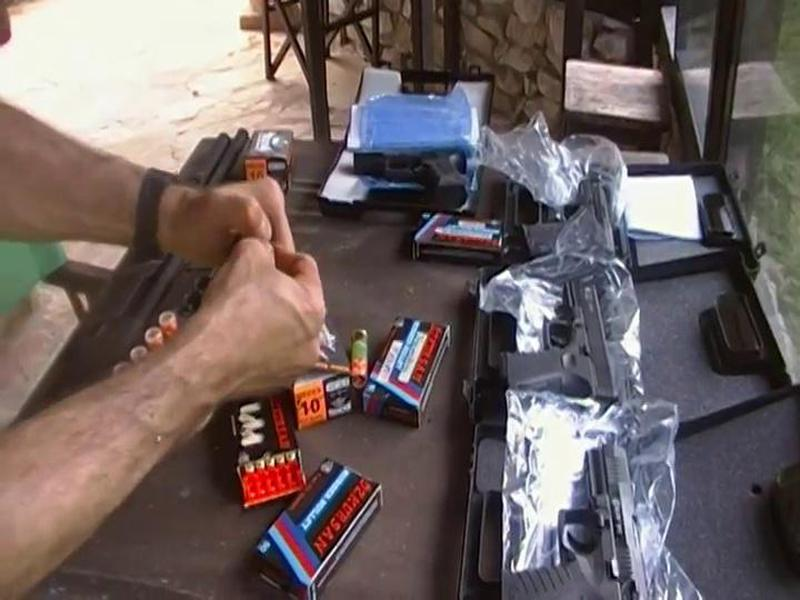Pistola: (472, 440, 662, 600), (495, 269, 626, 427)
